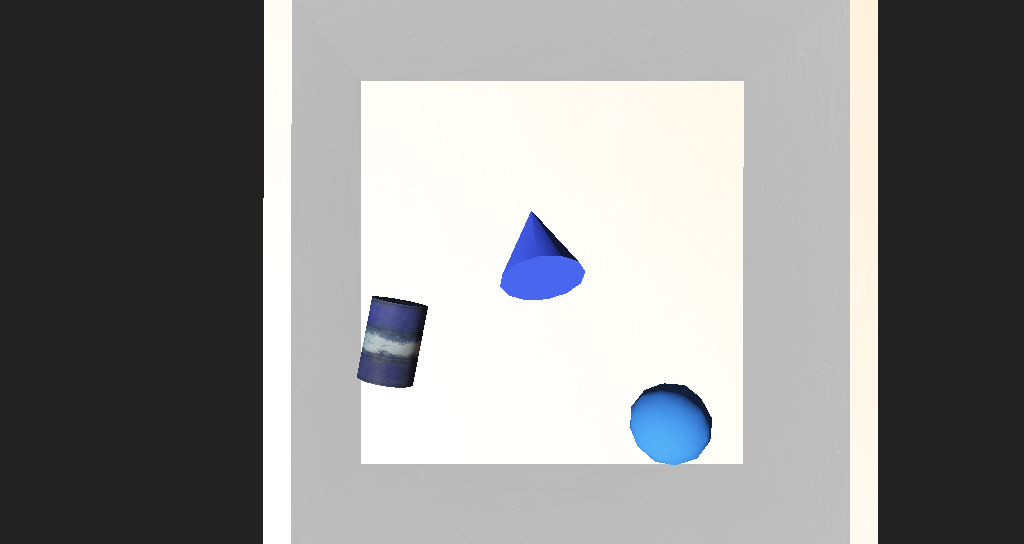cone: (344, 284, 411, 336)
cylinder: (455, 217, 529, 289)
sphere: (569, 332, 630, 375)
